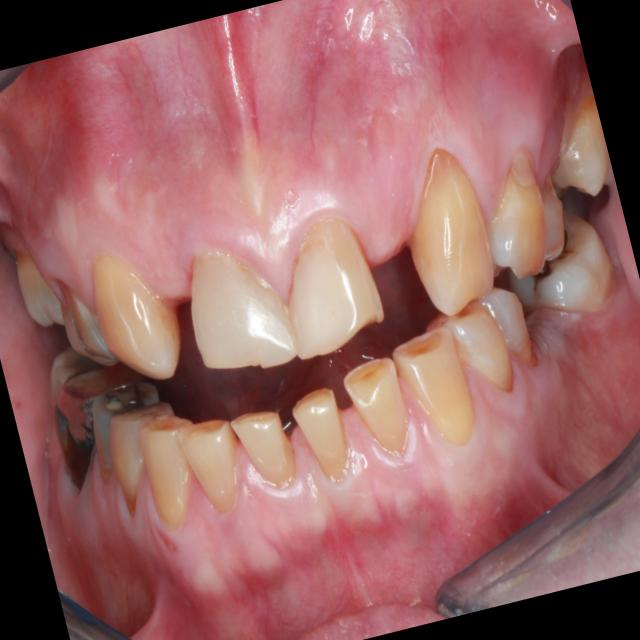tooth: (375, 124, 515, 330), (168, 220, 306, 398), (485, 176, 628, 335), (261, 209, 396, 370), (33, 349, 169, 501), (77, 232, 199, 397), (456, 123, 570, 294), (384, 314, 489, 458), (522, 74, 621, 221), (415, 285, 523, 414), (128, 398, 222, 539), (99, 396, 198, 529), (166, 402, 260, 524), (335, 344, 423, 472), (80, 373, 179, 486), (42, 254, 127, 383), (280, 374, 365, 500), (223, 392, 311, 508), (1, 230, 81, 351), (473, 270, 552, 385), (32, 333, 120, 422), (524, 161, 586, 264)
